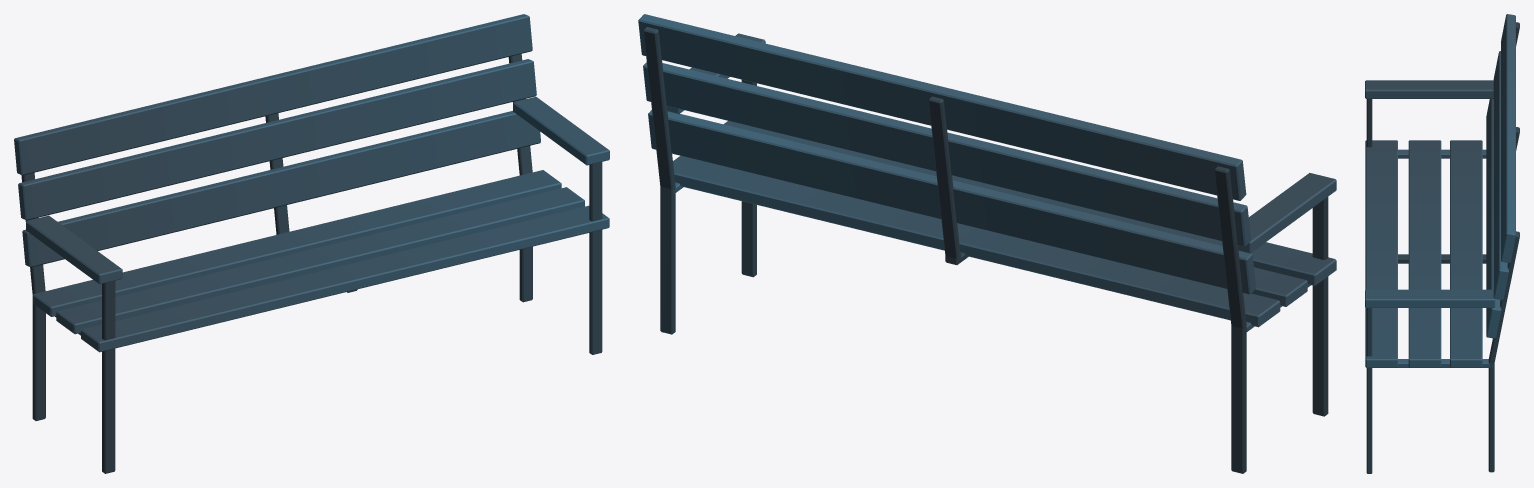
The model's file is The bench is blue.fbx.
The picture shows the model from 3 angles, left to right: view 1: azimuth 30°, elevation 25°; view 2: azimuth 150°, elevation 25°; view 3: azimuth 270°, elevation 25°; orthographic projection. The views are drawn at different scales.
Parts seen in each view (by area): view 1: Cube.003; view 2: Cube.003; view 3: Cube.003.
Boxes of the visible parts, box(x1,y1,x2,y2) form: Cube.003: box(14, 14, 609, 473); Cube.003: box(638, 14, 1336, 473); Cube.003: box(1365, 14, 1519, 473).
Bounding box in the file's own units: 769 × 398 × 229.
